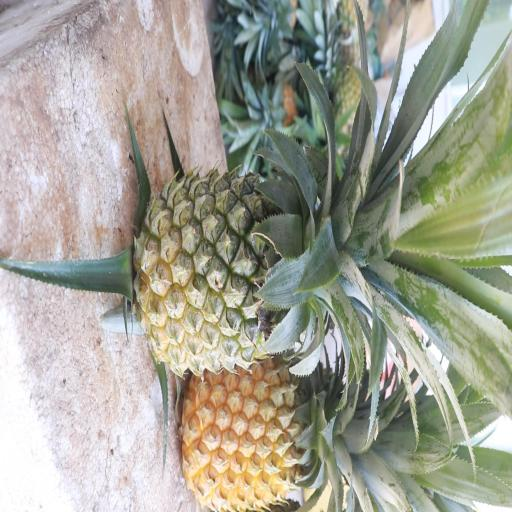------------------------------: (140, 176, 338, 371)
Pineapple - v8 v1: (182, 366, 348, 506)
